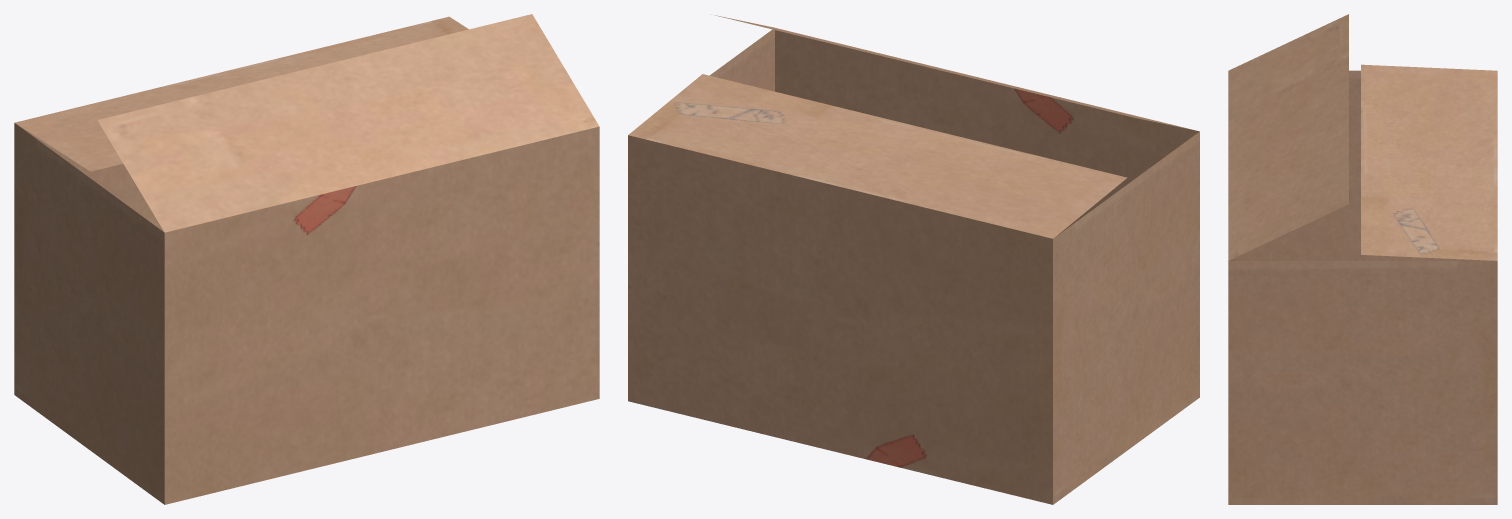
The model's file is cartons2.fbx.
The picture shows the model from 3 angles, left to right: view 1: azimuth 30°, elevation 25°; view 2: azimuth 150°, elevation 25°; view 3: azimuth 270°, elevation 25°; orthographic projection. The views are drawn at different scales.
Parts seen in each view (by area): view 1: pCube1; view 2: pCube1; view 3: pCube1.
Part boxes in pixels (bbox=[...]): pCube1: bbox=[14, 14, 599, 504]; pCube1: bbox=[628, 14, 1199, 504]; pCube1: bbox=[1228, 14, 1497, 504].
Bounding box in the file's own units: 1.67 × 1.23 × 1.
